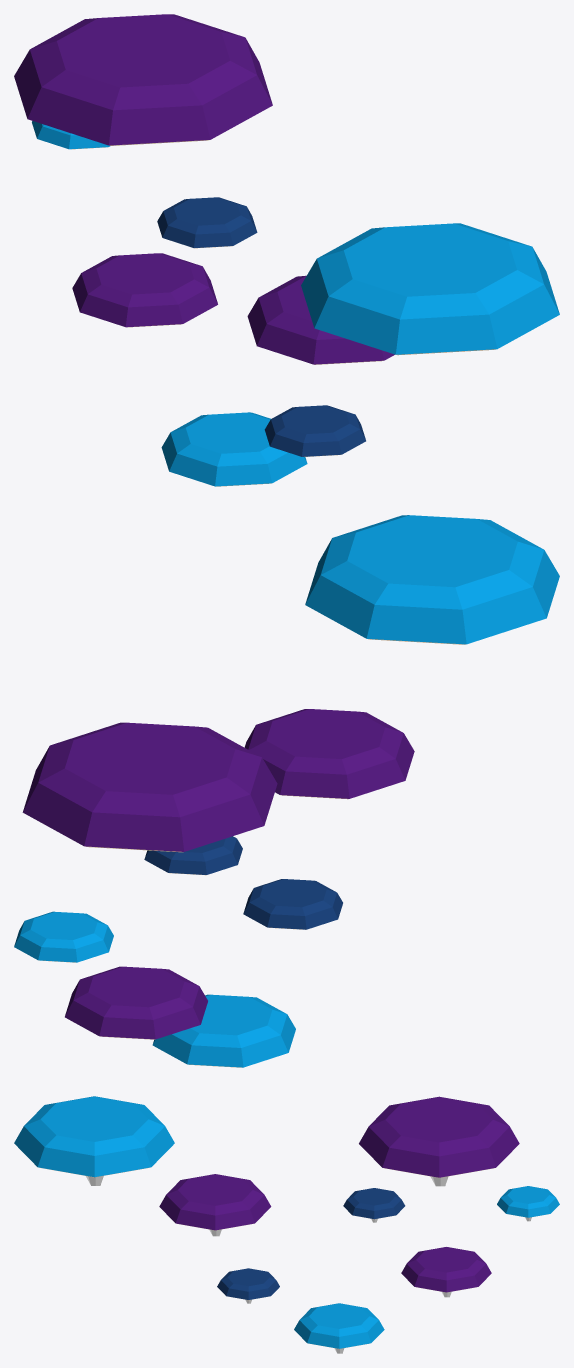
Rendered from Garden_WallShroom05.fbx.
The picture shows the model from 3 angles, top to bottom: view 1: azimuth 30°, elevation 25°; view 2: azimuth 150°, elevation 25°; view 3: azimuth 270°, elevation 25°; orthographic projection. The views are drawn at different scales.
Parts seen in each view (by area): view 1: Cylinder.185; view 2: Cylinder.185; view 3: Cylinder.185.
Boxes of the visible parts, x1,y1,x2,y2 form: Cylinder.185: (14, 14, 559, 486); Cylinder.185: (14, 515, 559, 1067); Cylinder.185: (14, 1096, 559, 1353).
Size of the model in its own units: 42.11 by 64.54 by 143.
